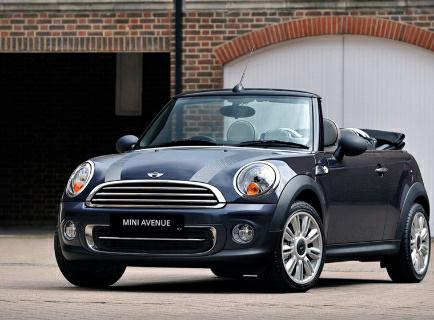MINI: (53, 82, 428, 289)
